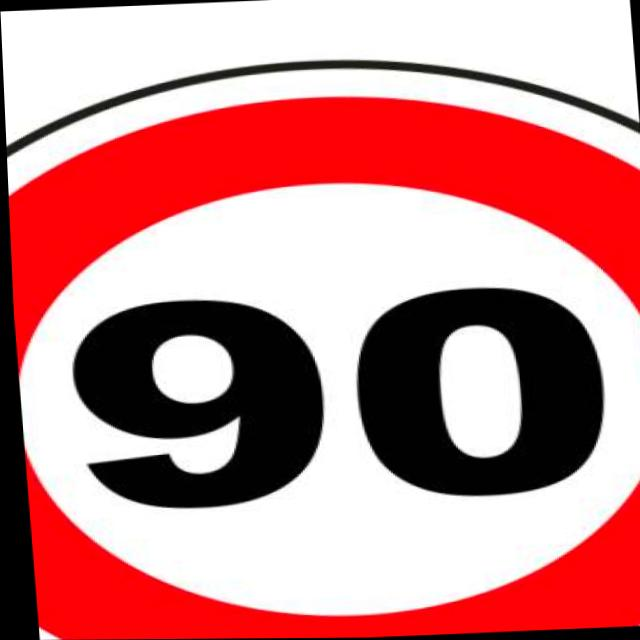Speed Limit -90-: (2, 39, 640, 640)
